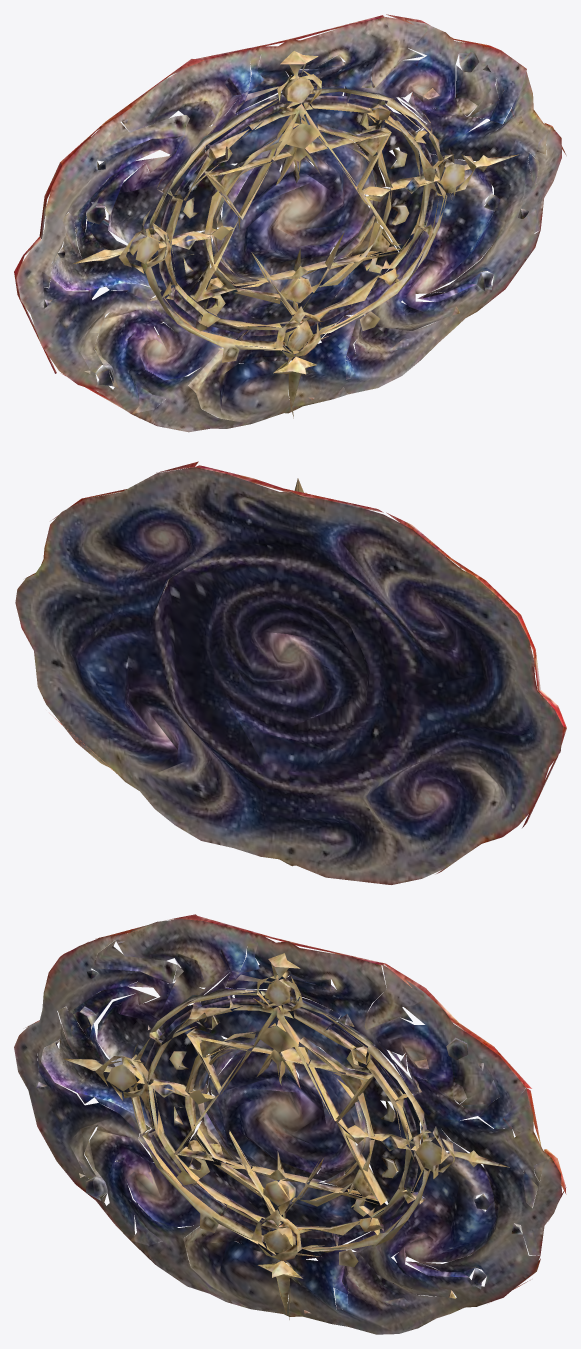
File: patch_cosmic_lite.glb
3 renders of one model, top to bottom at view 1: azimuth 30°, elevation 25°; view 2: azimuth 150°, elevation 25°; view 3: azimuth 330°, elevation 25°, orthographic.
Visible parts, largest first — view 1: geometry_0; view 2: geometry_0; view 3: geometry_0.
Boxes of the visible parts, x1,y1,x2,y2 form: geometry_0: (14, 14, 566, 432); geometry_0: (15, 461, 566, 884); geometry_0: (14, 914, 566, 1334).
Size of the model in its own units: 1.92 by 1.29 by 0.123.
Materials: 1 (1 with a texture image).
